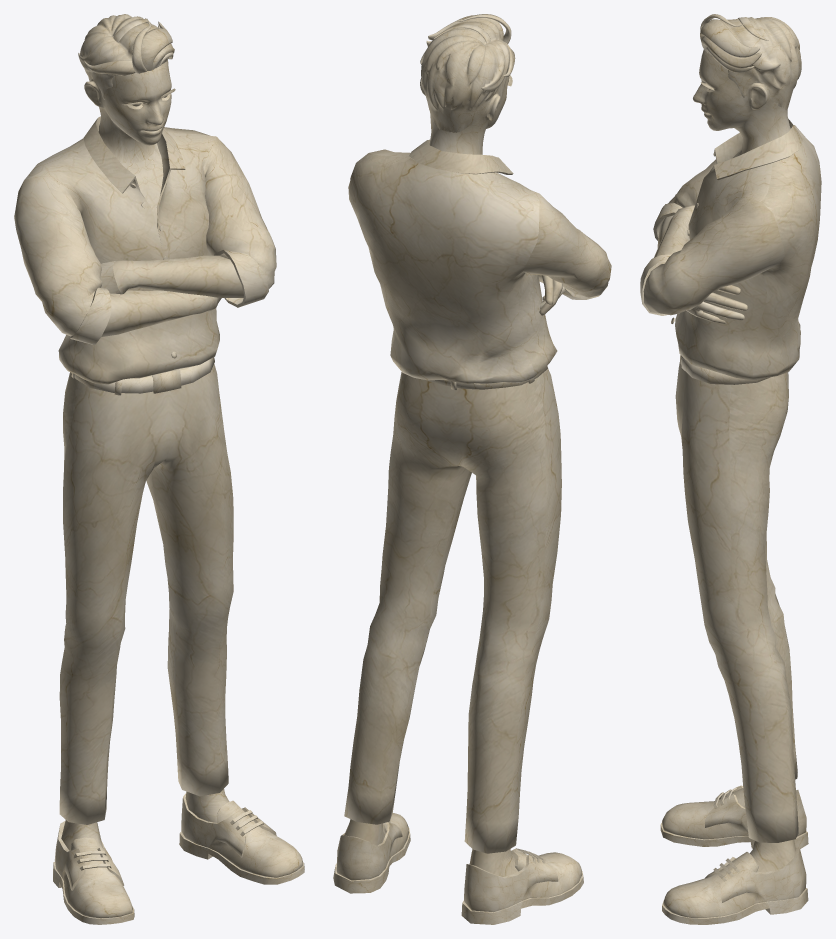
The model's file is Sample_Avatar_M_004.fbx.
3 views of the same model, side by side, from view 1: azimuth 30°, elevation 25°; view 2: azimuth 150°, elevation 25°; view 3: azimuth 270°, elevation 25° (orthographic). The views are drawn at different scales.
Parts seen in each view (by area): view 1: Sample_Avatar_M_004; view 2: Sample_Avatar_M_004; view 3: Sample_Avatar_M_004.
Part boxes in pixels (x1=…): Sample_Avatar_M_004: x1=14, y1=14, x2=304, y2=924; Sample_Avatar_M_004: x1=333, y1=14, x2=611, y2=924; Sample_Avatar_M_004: x1=640, y1=14, x2=821, y2=924.
Bounding box in the file's own units: 0.5545 × 1.8 × 0.3506.
